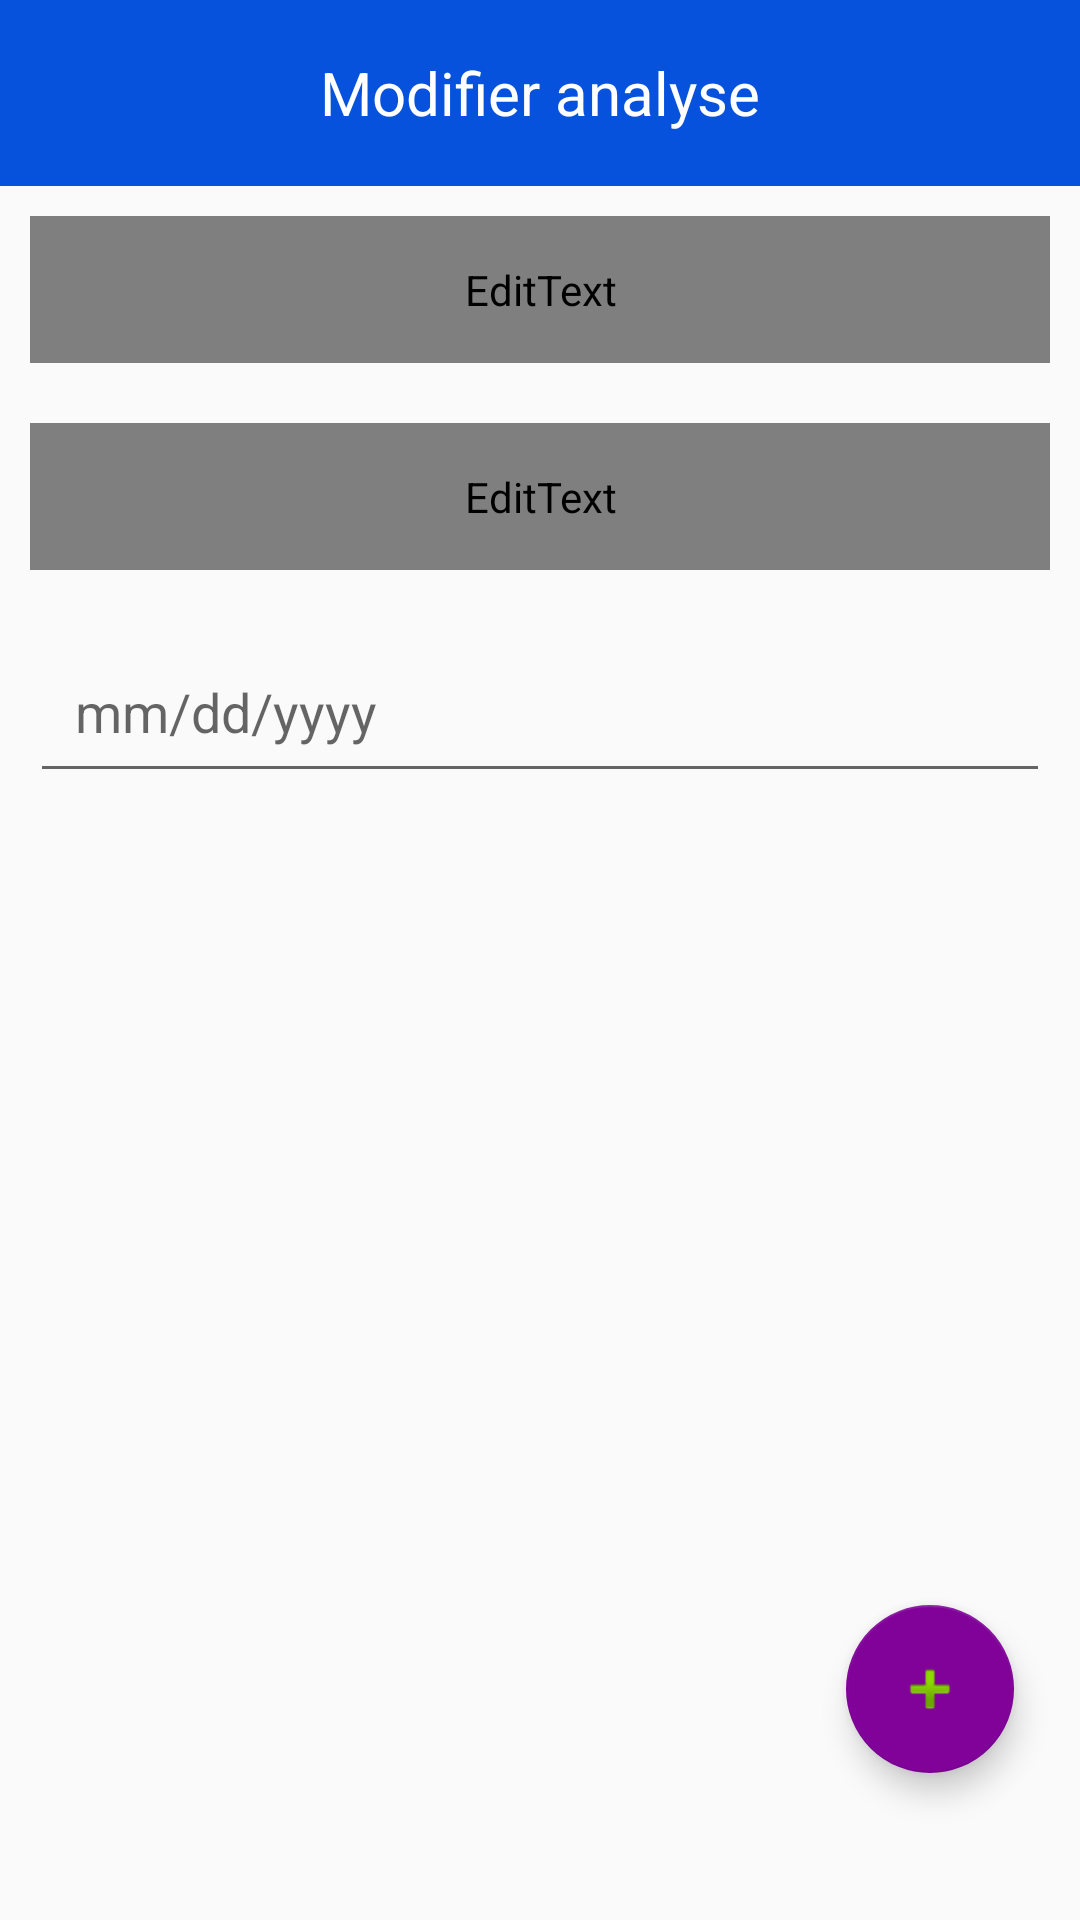

Named icons in this screenshot (1080x1920) and their centers, [x,y]:
add: [930,1689]
